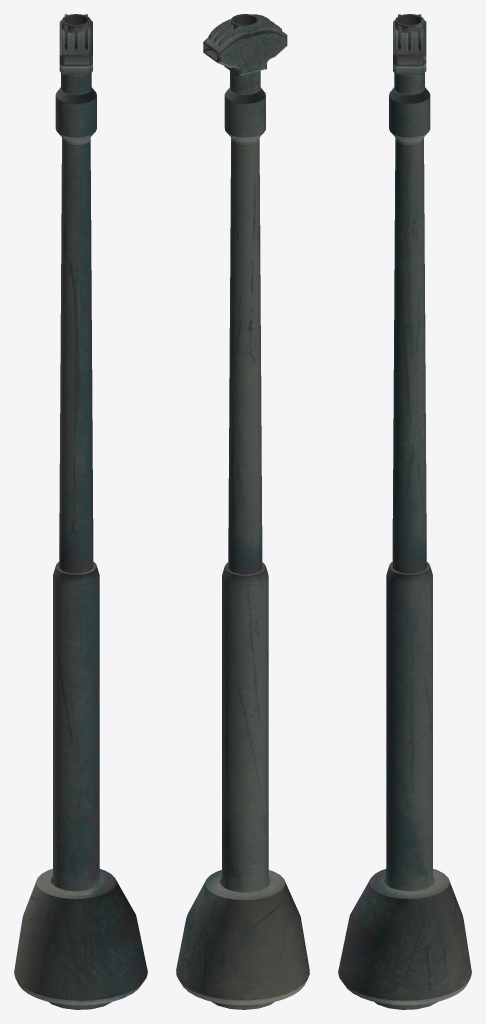
The model's file is Gun_01.glb.
3 renders of one model, left to right at view 1: azimuth 90°, elevation 25°; view 2: azimuth 210°, elevation 25°; view 3: azimuth 270°, elevation 25°, orthographic.
Visible parts, largest first — view 1: set_0_group_0; view 2: set_0_group_0; view 3: set_0_group_0.
Boxes of the visible parts, x1,y1,x2,y2 form: set_0_group_0: (14,14,147,1009); set_0_group_0: (176,14,309,1009); set_0_group_0: (338,14,471,1009).
Size of the model in its own units: 0.7684 by 6.17 by 0.7686.
1 material, 1 textured.
